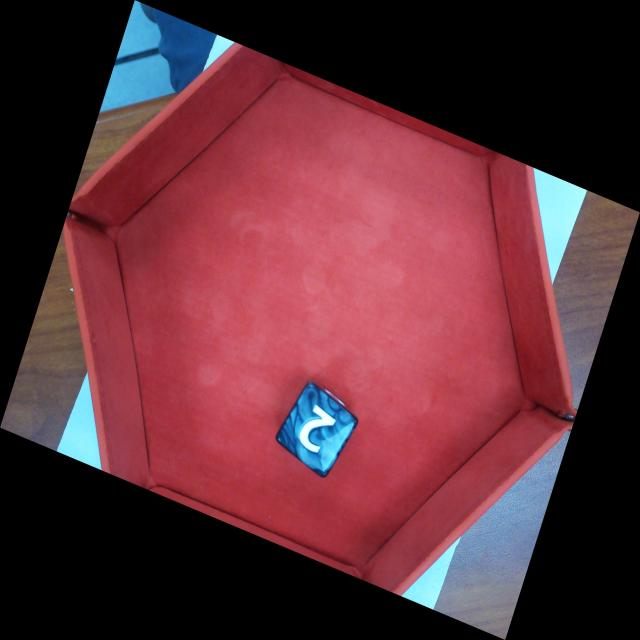dice: (274, 377, 360, 480)
